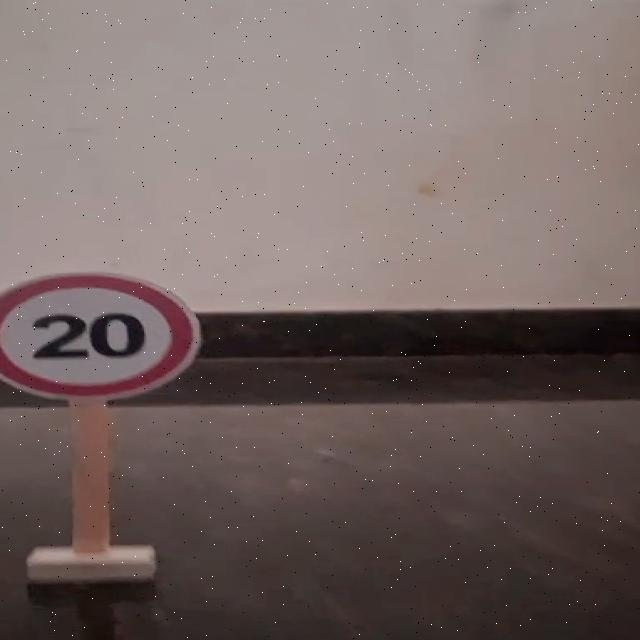Speed20: (0, 262, 206, 406)
